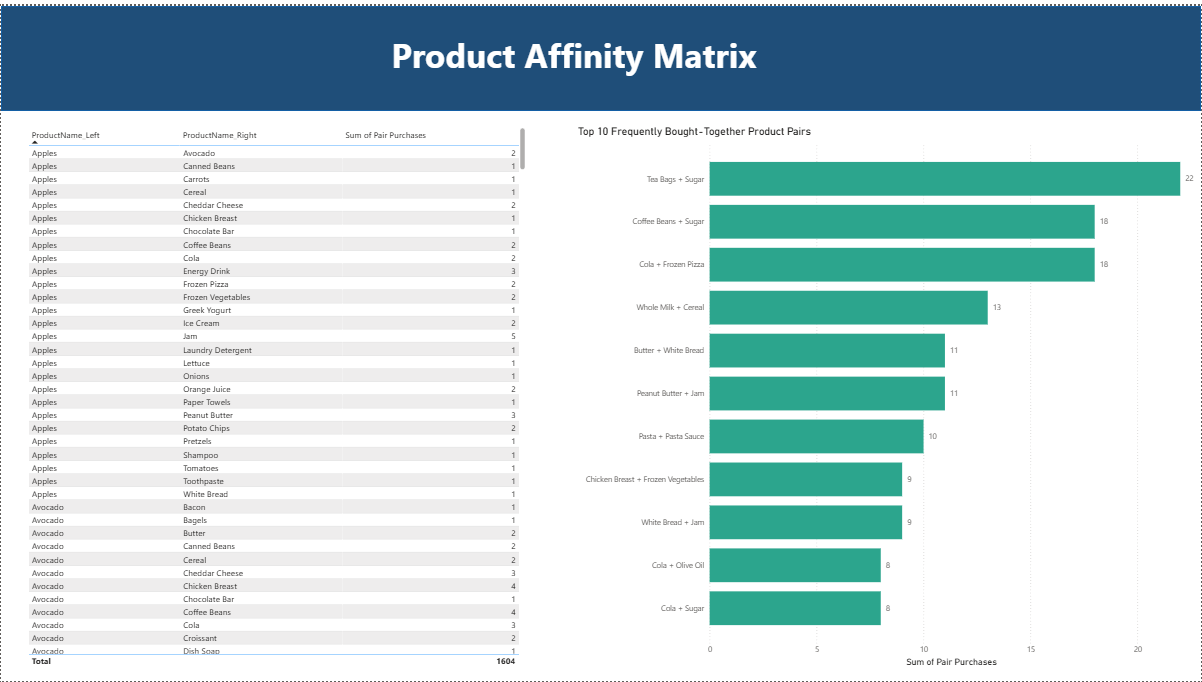

This screenshot's page, from the dashboard's own definition file:
{"tool":"powerbi","page":{"name":"Product Affinity","canvas":[1920,1080],"ordinal":4},"visuals":[{"type":"shape","box":[0,0,1920,168],"z":0},{"type":"clusteredBarChart","title":"Top 10 Frequently Bought-Together Product Pairs","fields":{"Category":["Product Affinity.Product Pair"],"Y":["Sum(Product Affinity.Pair Purchases)"]},"box":[918,190,1002,872],"z":3000},{"type":"tableEx","fields":{"Values":["Product Affinity.ProductName_Left","Product Affinity.ProductName_Right","Sum(Product Affinity.Pair Purchases)"]},"box":[38,190,806,872],"z":4000},{"type":"textbox","box":[176,36,1482,96],"z":4001}]}

Visuals, with their boxes in screenshot pixels (x1, y1, x2, y2), scaled from the page's 1920x1080 canvas onto the 1202x682 screenshot:
shape: crop(0, 0, 1201, 106)
"Top 10 Frequently Bought-Together Product Pairs" clusteredBarChart: crop(575, 120, 1201, 671)
tableEx - Product Affinity.ProductName_Left x Product Affinity.ProductName_Right: crop(24, 120, 528, 671)
textbox: crop(110, 23, 1038, 83)
